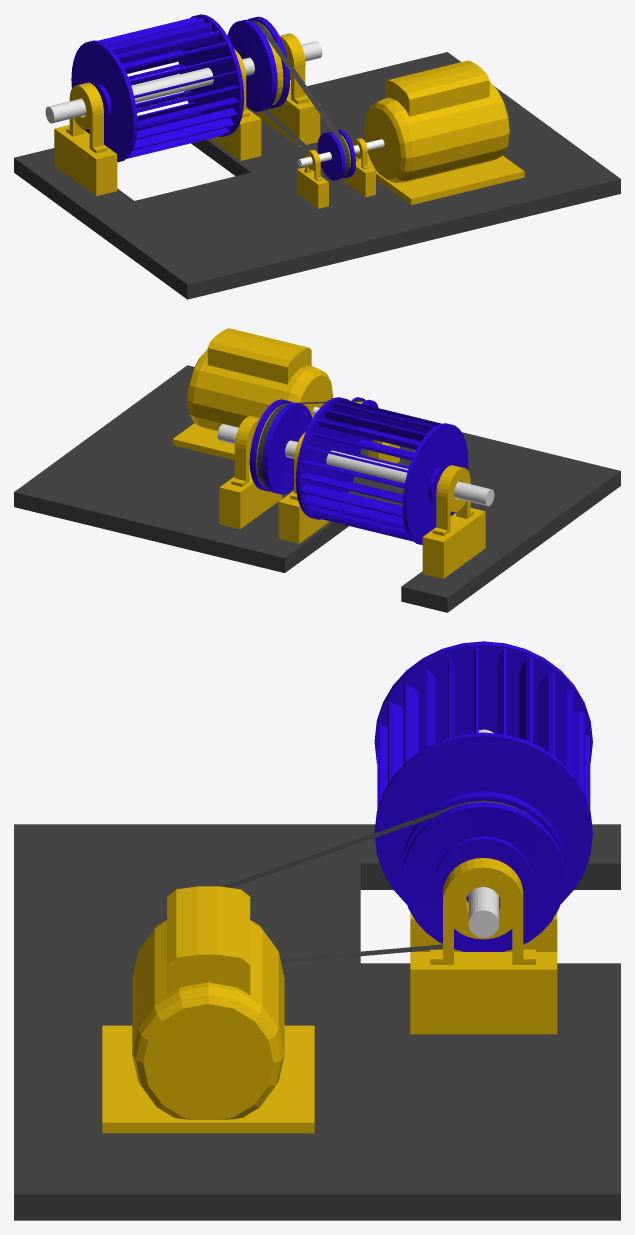
Rendered from turbin-cf.glb.
3 views of the same model, one above another, from view 1: azimuth 30°, elevation 25°; view 2: azimuth 150°, elevation 25°; view 3: azimuth 270°, elevation 25° (orthographic). The views are drawn at different scales.
Visible parts, largest first — view 1: Plate, Turbine, Generator, Base_Bearing_Turbine, Top_Generator, Base_Generator, Shield_Pulley_Turbine, Shield_Bearing_Turbine, Base_Bearing_Pulley, VBelt, Shield_Bearing_Pulley, Shield_Pulley_Generator2 (+5 smaller); view 2: Plate, Turbine, Generator, Base_Bearing_Turbine, Top_Generator, Shield_Pulley_Turbine, Base_Bearing_Pulley, Shield_Bearing_Turbine, Base_Generator, Shield_Bearing_Pulley, Shield_Pulley_Turbine2, VBelt; view 3: Plate, Turbine, Generator, Base_Bearing_Pulley, Shield_Pulley_Turbine2, Base_Generator, Top_Generator, Shield_Bearing_Pulley, Shield_Pulley_Outside, VBelt, Shield_Pulley_Turbine, Base_Bearing_Turbine.
Part boxes in pixels (box(x1,y1,x2,y2)): Plate: box(14, 52, 620, 299); Turbine: box(45, 14, 322, 162); Generator: box(364, 82, 509, 182); Base_Bearing_Turbine: box(54, 108, 261, 195); Top_Generator: box(385, 60, 489, 116); Base_Generator: box(360, 153, 524, 204); Shield_Pulley_Turbine: box(227, 19, 277, 111); Shield_Bearing_Turbine: box(66, 49, 249, 153); Base_Bearing_Pulley: box(257, 82, 320, 146); VBelt: box(251, 20, 350, 176); Shield_Bearing_Pulley: box(280, 33, 308, 104); Shield_Pulley_Generator2: box(317, 132, 345, 180); Plate: box(14, 365, 620, 612); Turbine: box(217, 397, 494, 544); Generator: box(187, 349, 333, 431); Base_Bearing_Turbine: box(278, 491, 485, 578); Top_Generator: box(207, 328, 311, 384); Shield_Pulley_Turbine: box(262, 402, 312, 494); Base_Bearing_Pulley: box(219, 465, 282, 529); Shield_Bearing_Turbine: box(290, 432, 473, 535); Base_Generator: box(172, 423, 249, 463); Shield_Bearing_Pulley: box(231, 416, 260, 486); Shield_Pulley_Turbine2: box(249, 399, 292, 491); VBelt: box(257, 400, 363, 488); Plate: box(14, 824, 620, 1220); Turbine: box(374, 641, 592, 937); Generator: box(132, 920, 284, 1119); Base_Bearing_Pulley: box(410, 952, 557, 1034); Shield_Pulley_Turbine2: box(402, 802, 565, 951); Base_Generator: box(102, 1025, 314, 1133); Top_Generator: box(167, 886, 250, 994); Shield_Bearing_Pulley: box(430, 858, 535, 964); Shield_Pulley_Outside: box(435, 836, 532, 908); VBelt: box(222, 800, 536, 963); Shield_Pulley_Turbine: box(402, 791, 565, 872); Base_Bearing_Turbine: box(410, 912, 557, 951).
Bounding box in the file's own units: 1.74 × 0.5466 × 1.2.
